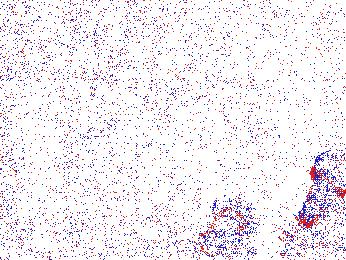flame jellyfish: (296, 147, 346, 225), (279, 204, 346, 250), (199, 193, 261, 239)
